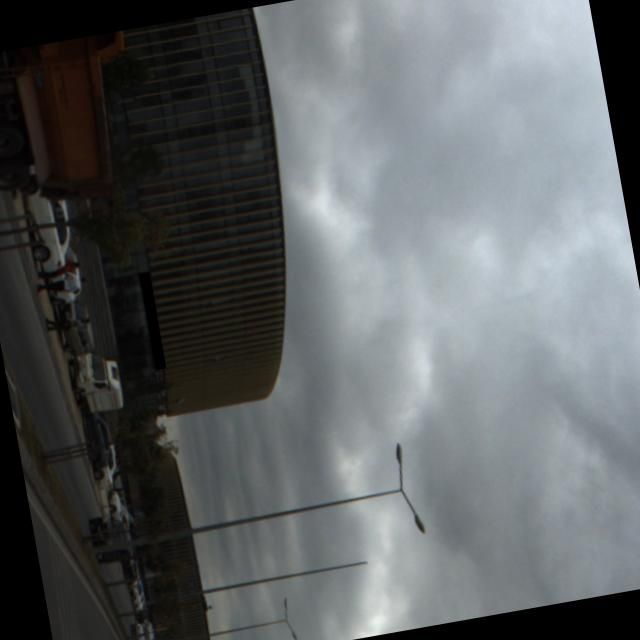SignStore: (138, 272, 162, 369)
